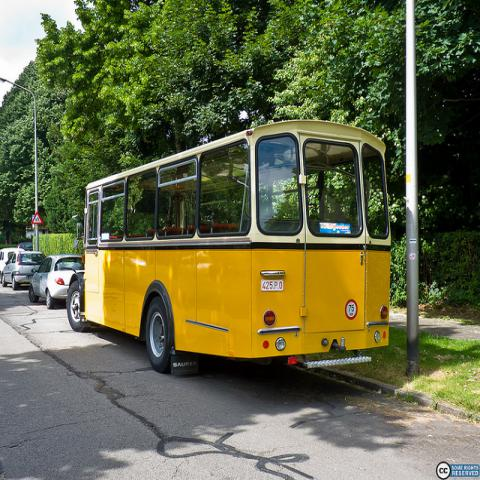bus: (63, 118, 392, 376)
car: (27, 251, 86, 311), (2, 251, 45, 290), (0, 247, 26, 285)
